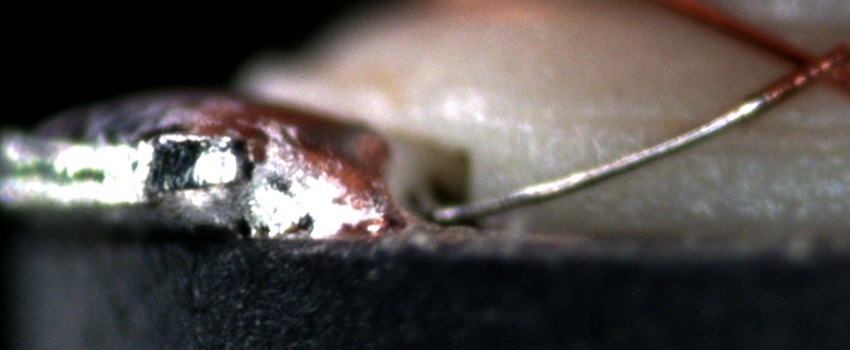CL: (768, 38, 844, 98)
DL: (555, 97, 850, 156)
TS: (434, 94, 766, 219)
